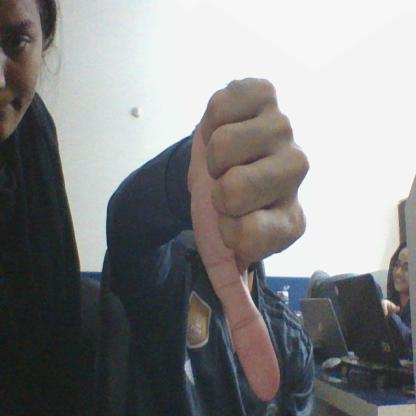thumbs-down: (189, 79, 321, 401)
